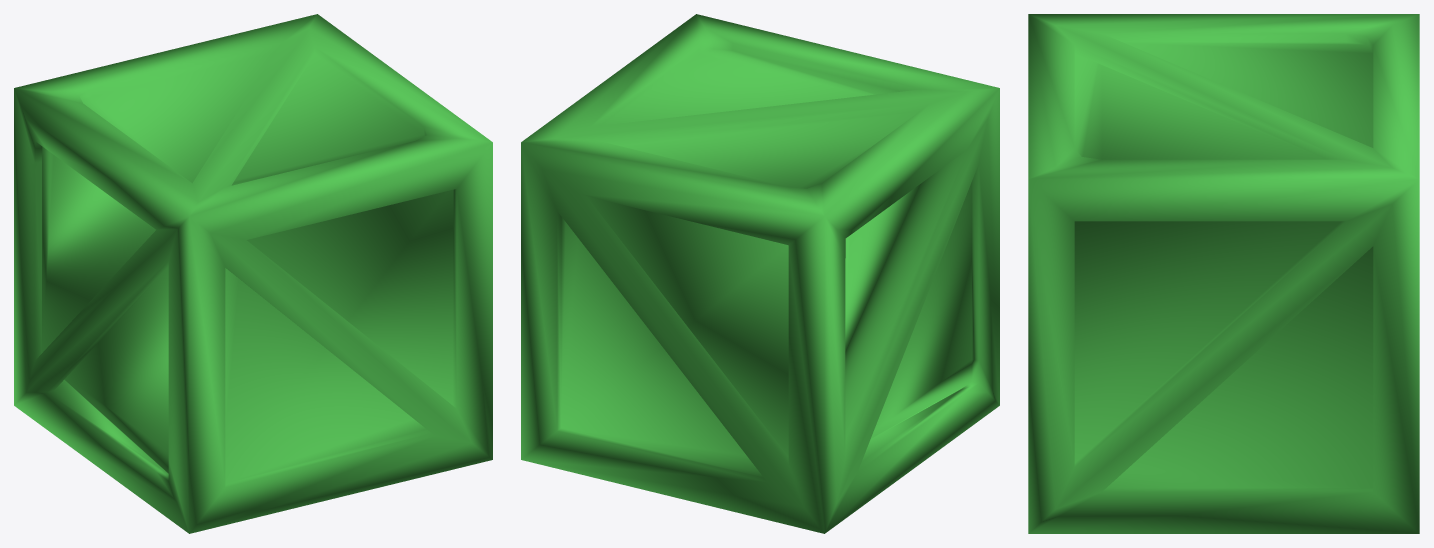
The model's file is ClosedCrate.fbx.
3 renders of one model, left to right at view 1: azimuth 30°, elevation 25°; view 2: azimuth 150°, elevation 25°; view 3: azimuth 270°, elevation 25°, orthographic. The views are drawn at different scales.
Parts seen in each view (by area): view 1: ClosedCrate:Box001; view 2: ClosedCrate:Box001; view 3: ClosedCrate:Box001.
Boxes of the visible parts, <box> form: ClosedCrate:Box001: <box>14,14,492,533</box>; ClosedCrate:Box001: <box>521,14,999,533</box>; ClosedCrate:Box001: <box>1028,14,1419,533</box>.
Bounding box in the file's own units: 10.49 × 10.49 × 10.49.
